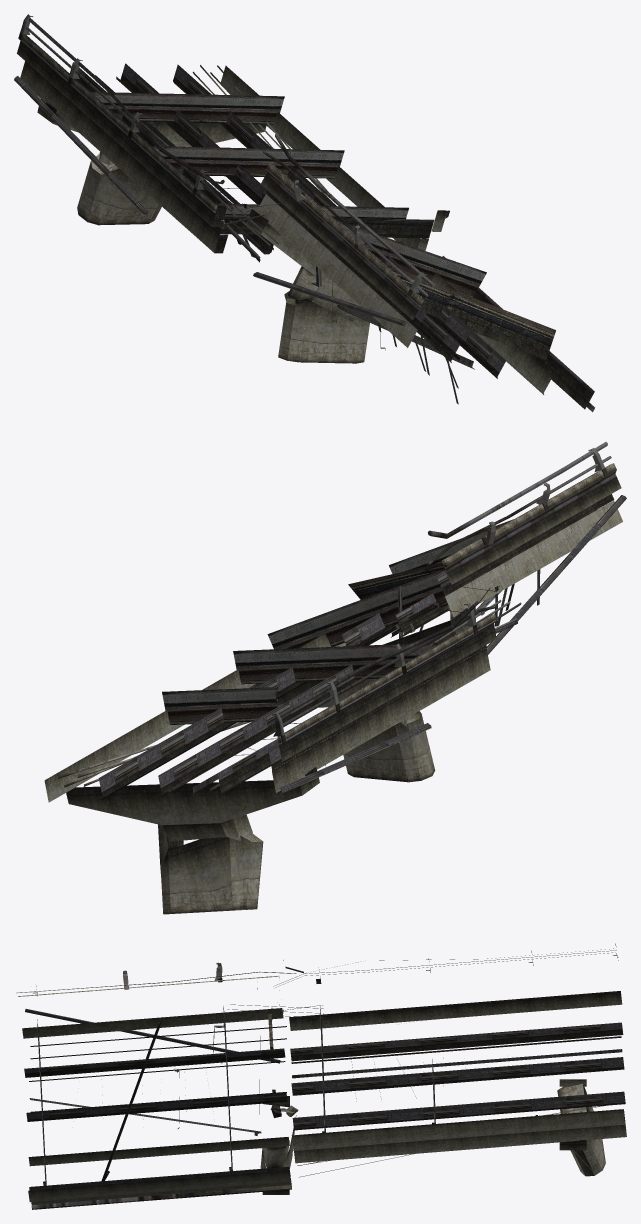
File: overpass_001b.glb
3 renders of one model, top to bottom at view 1: azimuth 30°, elevation 25°; view 2: azimuth 150°, elevation 25°; view 3: azimuth 270°, elevation 25°, orthographic. The views are drawn at different scales.
Visible parts, largest first — view 1: 0_overpass_001a; view 2: 0_overpass_001a; view 3: 0_overpass_001a.
Boxes of the visible parts, bbox=[...] form: 0_overpass_001a: bbox=[14, 14, 594, 412]; 0_overpass_001a: bbox=[44, 441, 626, 914]; 0_overpass_001a: bbox=[16, 943, 626, 1209].
Size of the model in its own units: 12.02 by 10.21 by 27.68.
1 material, 1 textured.
